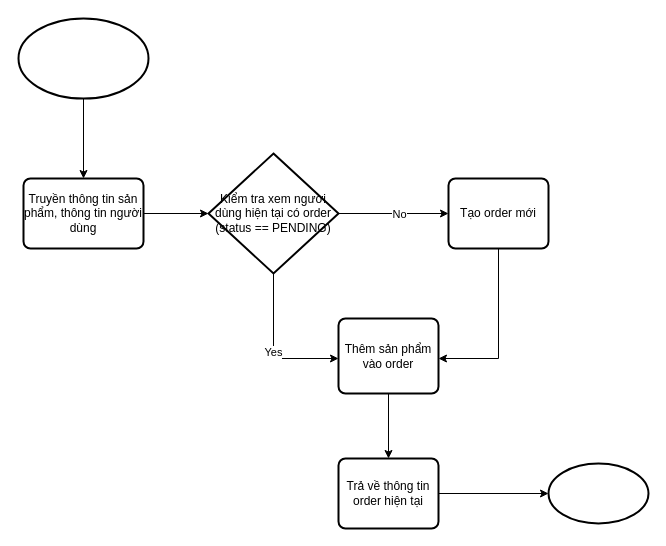
The diagram is 666 pixels wide and 546 high, and some of its shapes have lost their labels. The centre of each missing label's shape, as x and y in pixels:
"End" goes at (x=598, y=493).
"Start (Thêm sản phẩm vào đơn hàng)" goes at (x=83, y=58).
